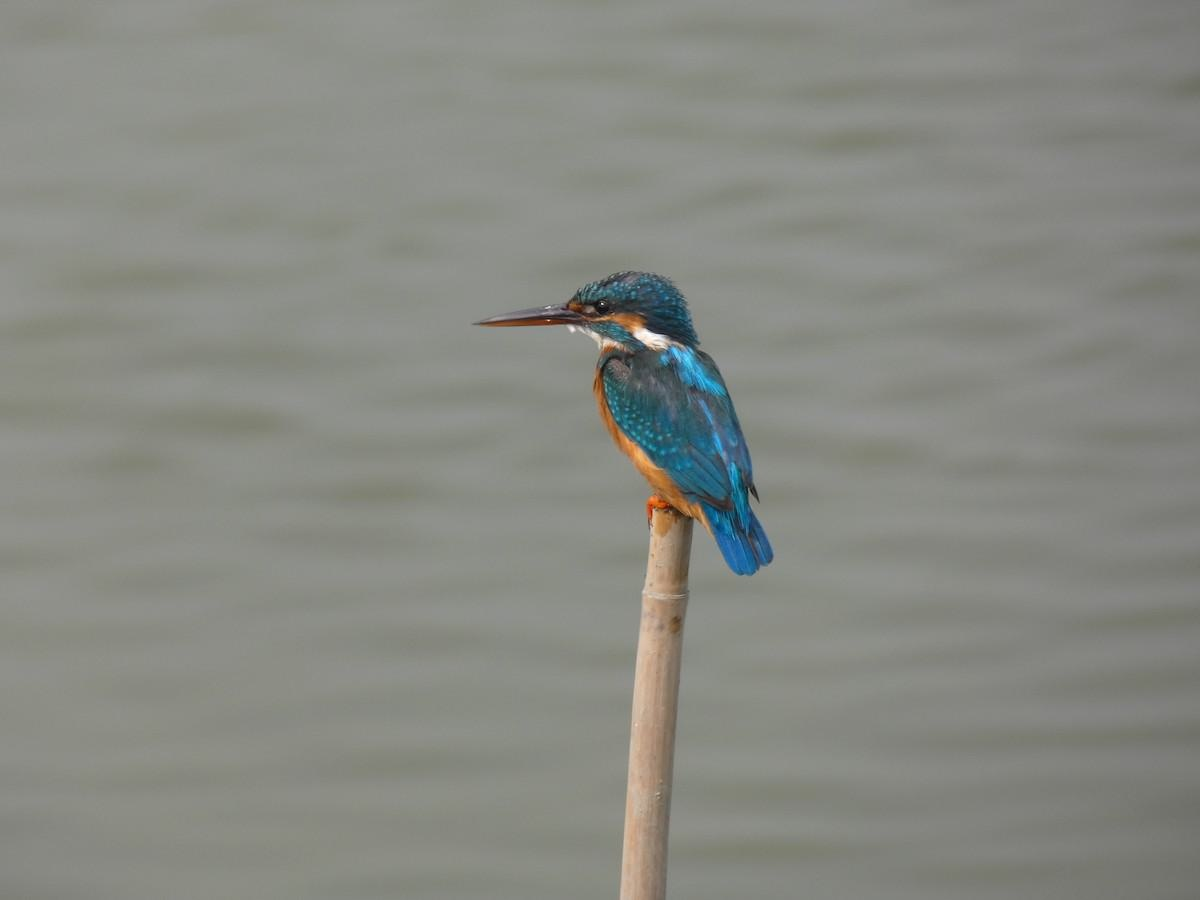kingfisher: (452, 235, 813, 592)
